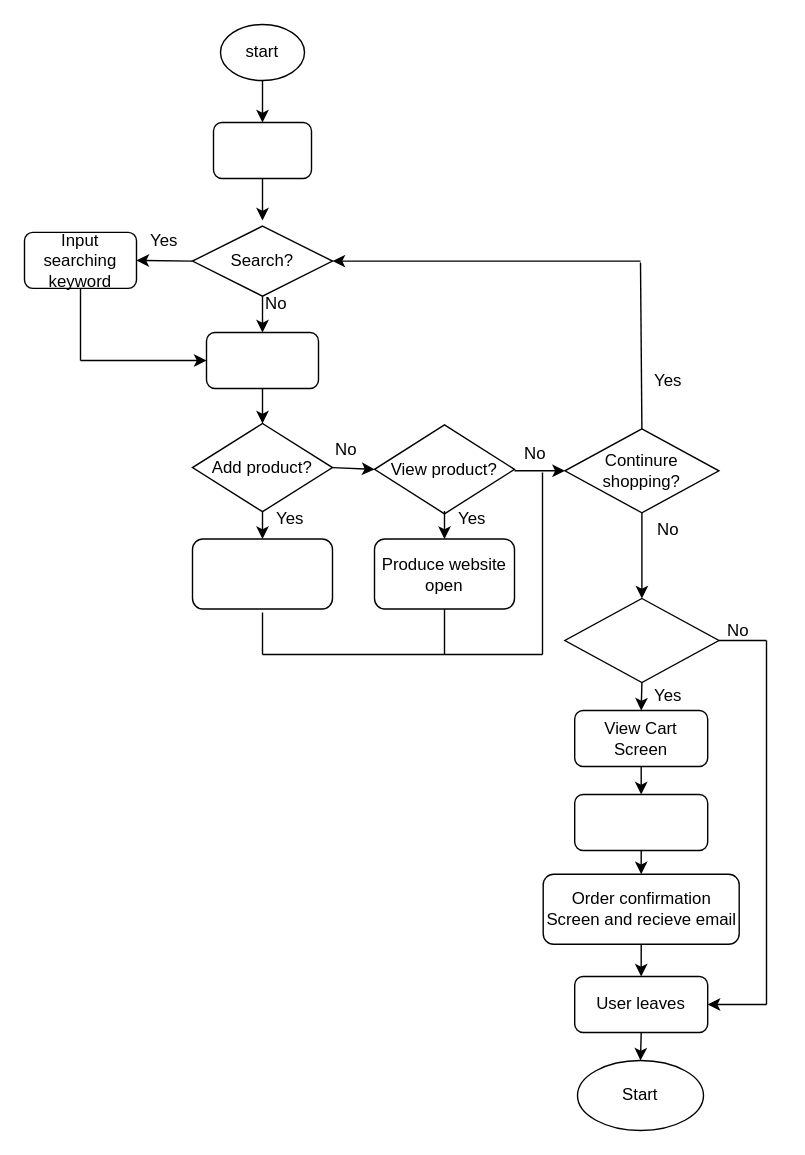
The diagram is 805 pixels wide and 1155 high, and some of its shapes have lost their labels. Each missing label, with the centre of its shape:
"Add project to cart" goes at (x=261, y=573).
"Check out?" goes at (x=641, y=639).
"Exploring products" goes at (x=261, y=359).
"User arrives" goes at (x=262, y=149).
"View Payment Screen" goes at (x=640, y=821).
